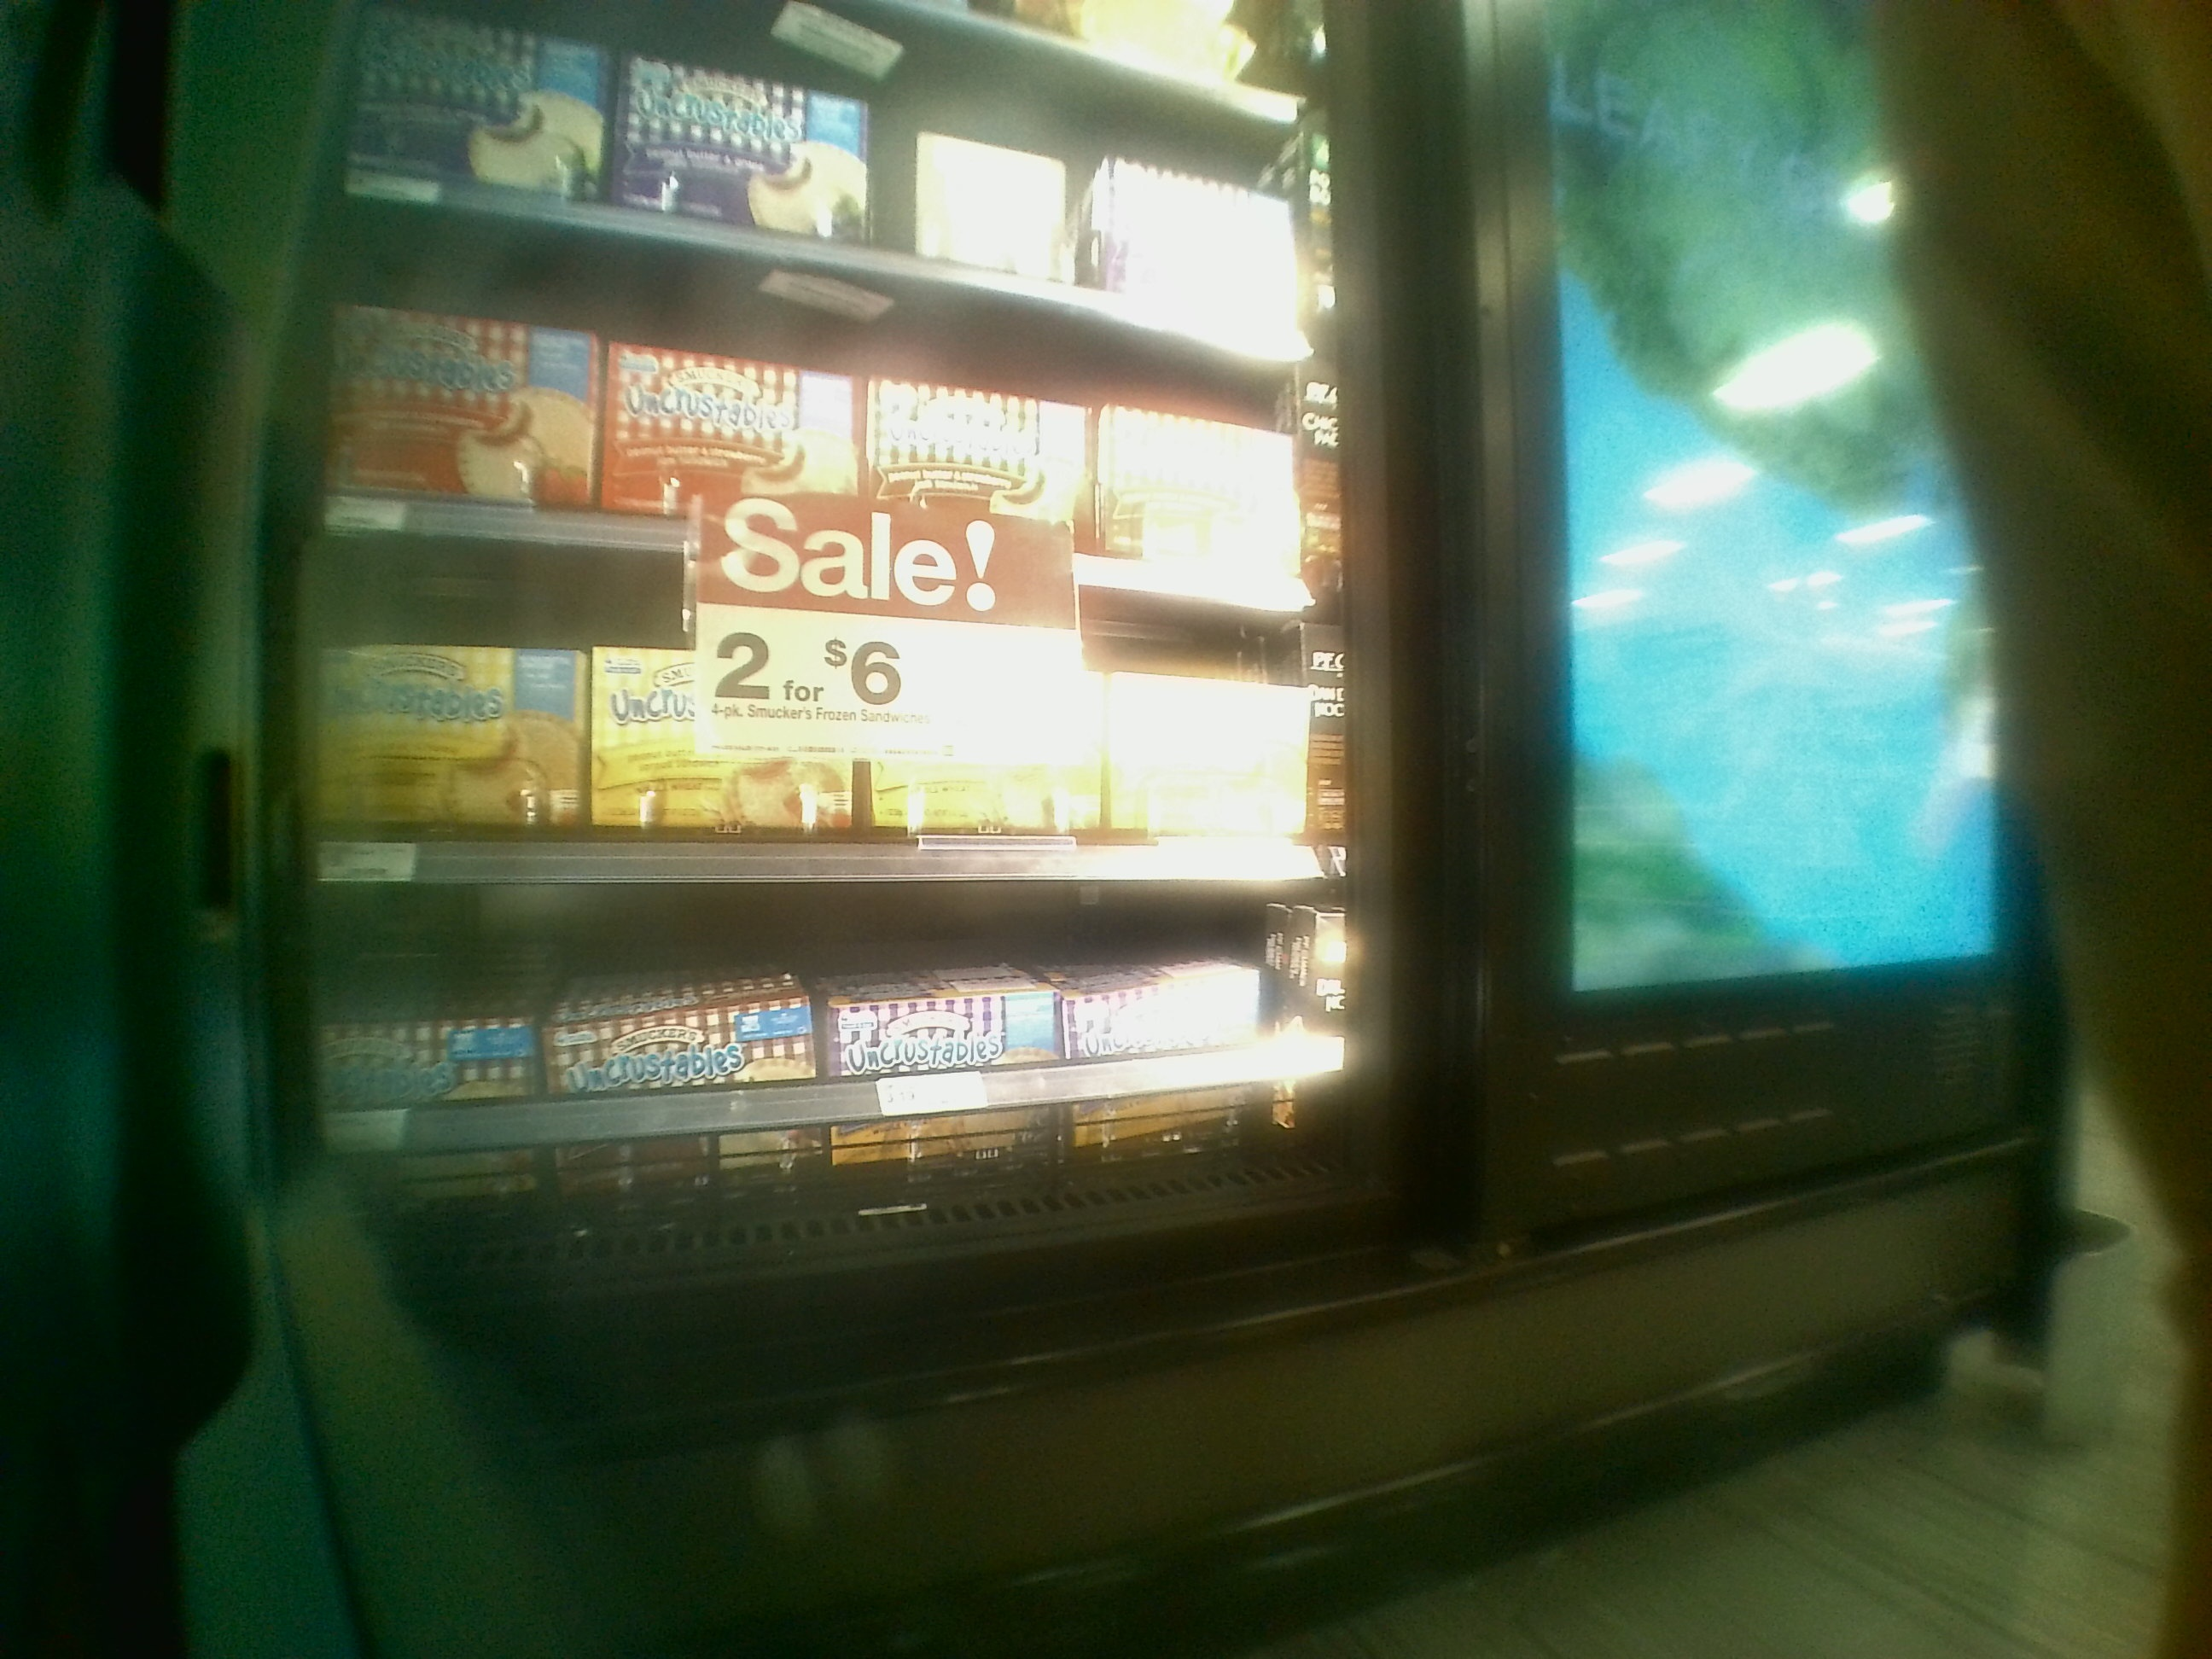shelf: (314, 854, 1371, 1246), (294, 207, 1357, 589), (298, 504, 1362, 870)
